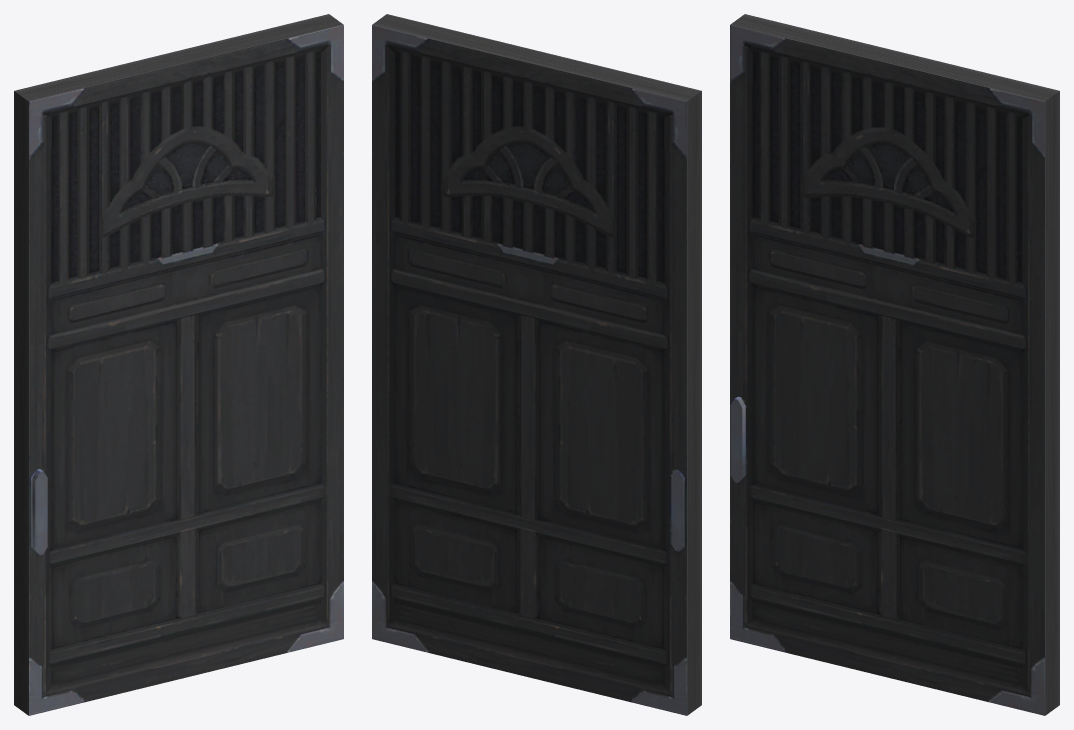
The model's file is Homeworld_Interior_Dq_Room_Door_01_02_Vo.fbx.
3 views of the same model, side by side, from view 1: azimuth 30°, elevation 25°; view 2: azimuth 150°, elevation 25°; view 3: azimuth 330°, elevation 25° (orthographic).
Visible parts, largest first — view 1: NaveMesh; view 2: NaveMesh; view 3: NaveMesh.
Boxes of the visible parts, x1,y1,x2,y2 form: NaveMesh: [14, 14, 343, 715]; NaveMesh: [372, 14, 701, 715]; NaveMesh: [730, 14, 1059, 715].
Bounding box in the file's own units: 1.71 × 3.19 × 0.1703.
